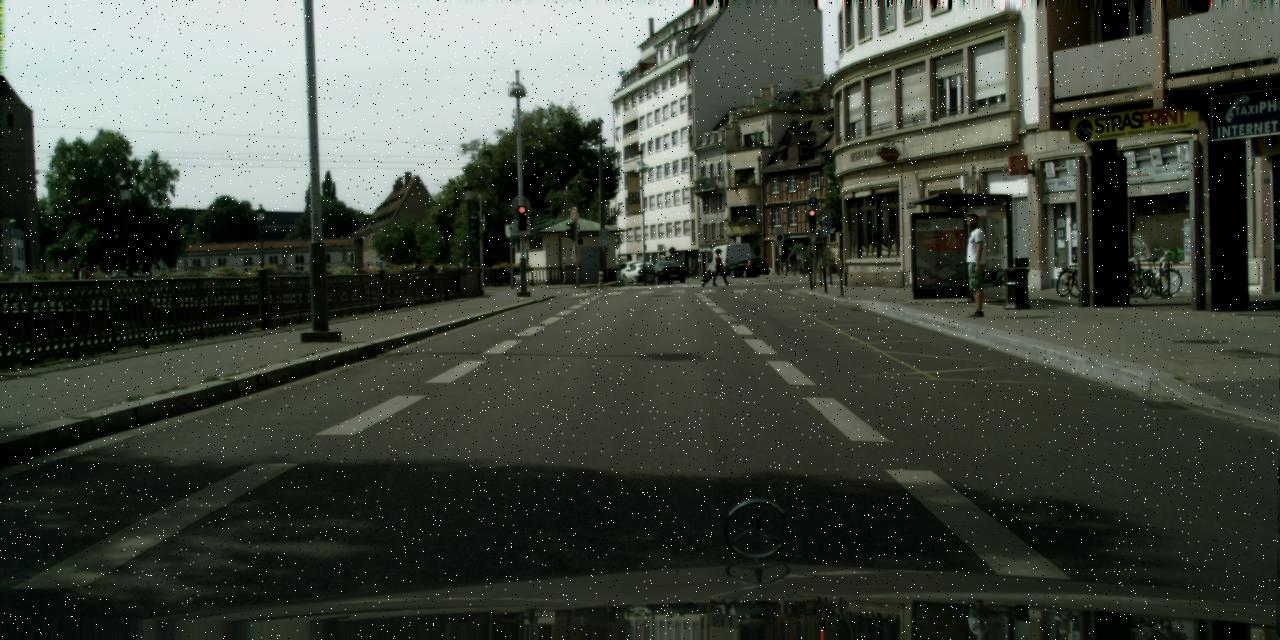ped: (954, 212, 996, 316), (62, 259, 82, 307), (71, 261, 90, 308), (78, 262, 96, 307), (372, 254, 390, 297), (410, 258, 424, 296), (712, 248, 726, 285), (778, 246, 789, 273), (788, 250, 797, 272)
